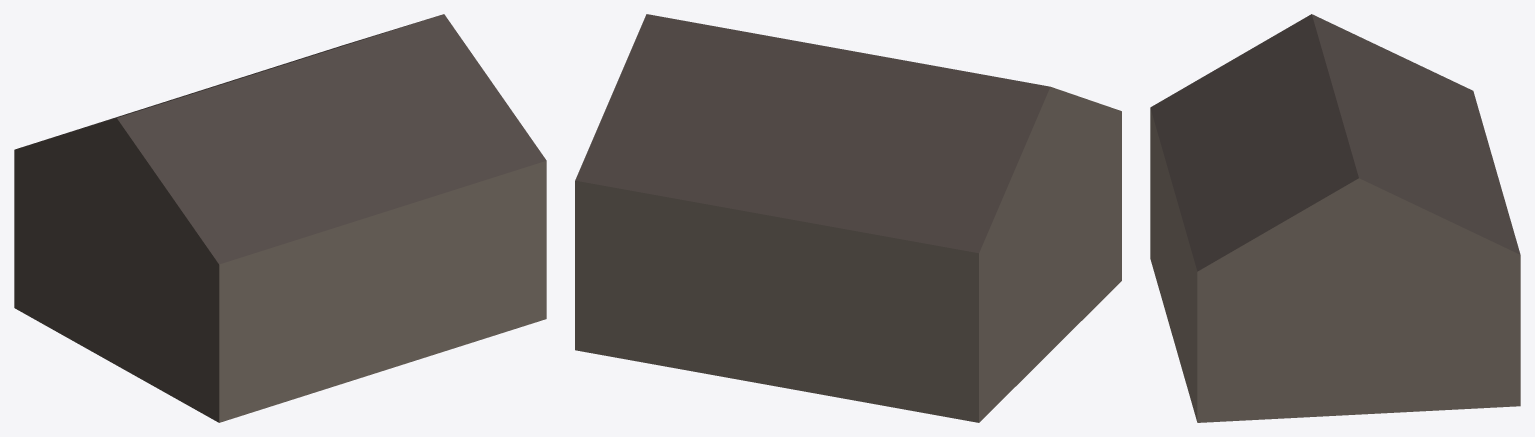
3 renders of one model, left to right at view 1: azimuth 30°, elevation 25°; view 2: azimuth 150°, elevation 25°; view 3: azimuth 270°, elevation 25°, orthographic. The views are drawn at different scales.
Parts seen in each view (by area): view 1: HP-w859457393; view 2: HP-w859457393; view 3: HP-w859457393.
Boxes of the visible parts, x1,y1,x2,y2 form: HP-w859457393: (14,14,546,422); HP-w859457393: (575,14,1121,422); HP-w859457393: (1150,14,1520,422).
Bounding box in the file's own units: 23.09 × 14.07 × 19.97.
